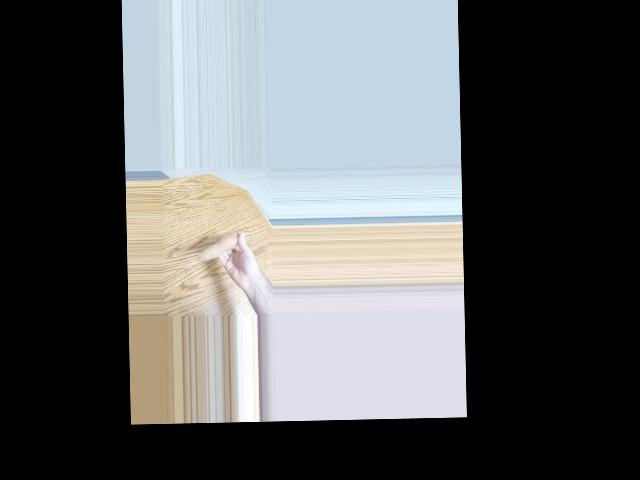sweet_potato: (194, 230, 247, 266)
